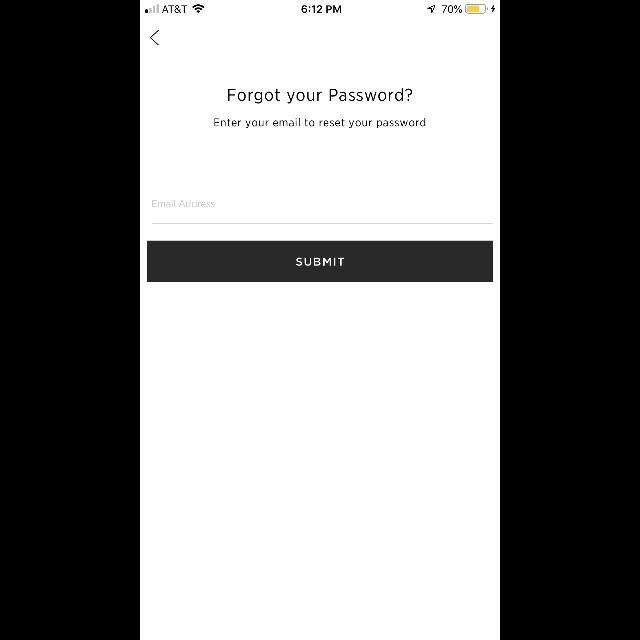icon: (151, 30, 159, 46)
input: (152, 200, 492, 224)
text: (228, 88, 412, 104), (214, 118, 426, 128), (153, 200, 215, 208)
textbutton: (147, 241, 493, 283)
uppertaskbar: (140, 0, 500, 14)
